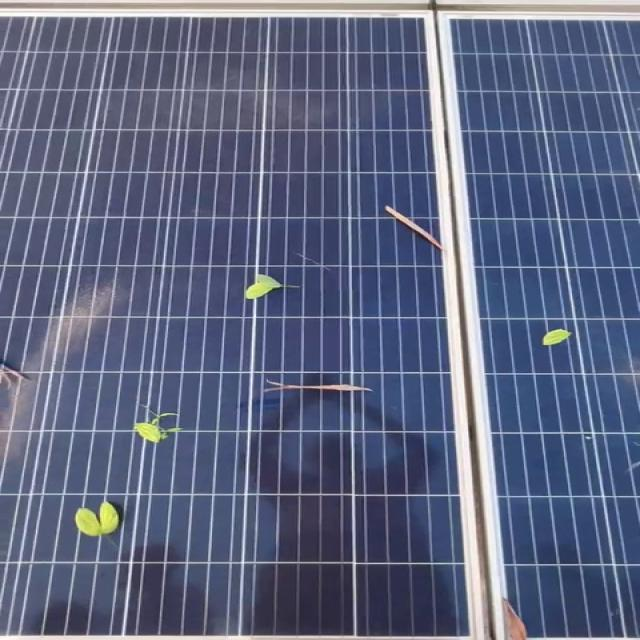dust_partical: (158, 76, 352, 130), (0, 284, 132, 357)
old_leaf: (214, 268, 404, 416), (52, 405, 160, 544), (528, 322, 578, 360), (270, 113, 272, 121)
